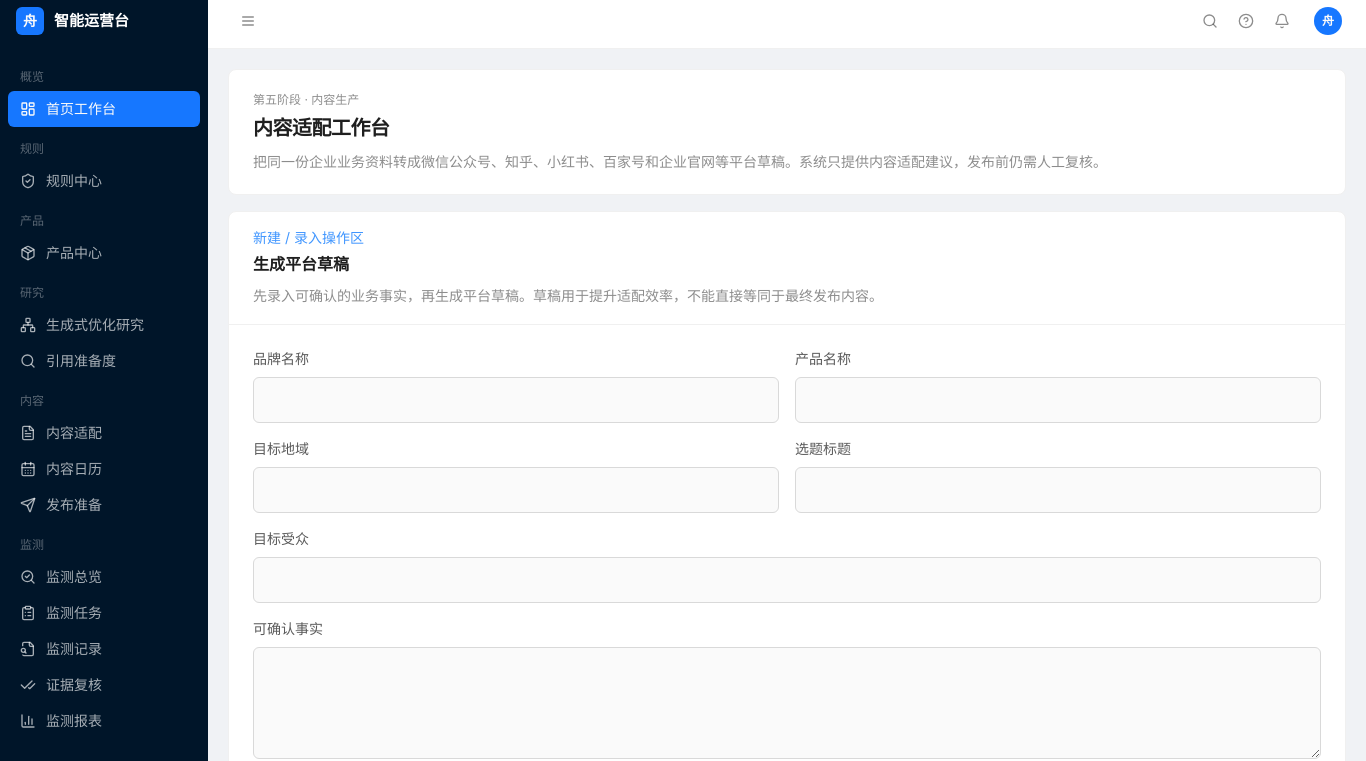
P8 多平台适配增强 › 在内容适配页面展示平台策略、适配评分、引用准备提示和发布建议
Type "武汉微艺达智能科技有限公司" into the field labelled "品牌名称". click: point(516, 400)
box: [253, 377, 779, 423]
Type "智能沙盘" into the field labelled "产品名称". click: point(1058, 400)
box: [795, 377, 1321, 423]
Type "武汉" into the field labelled "目标地域". click: point(516, 490)
box: [253, 467, 779, 513]
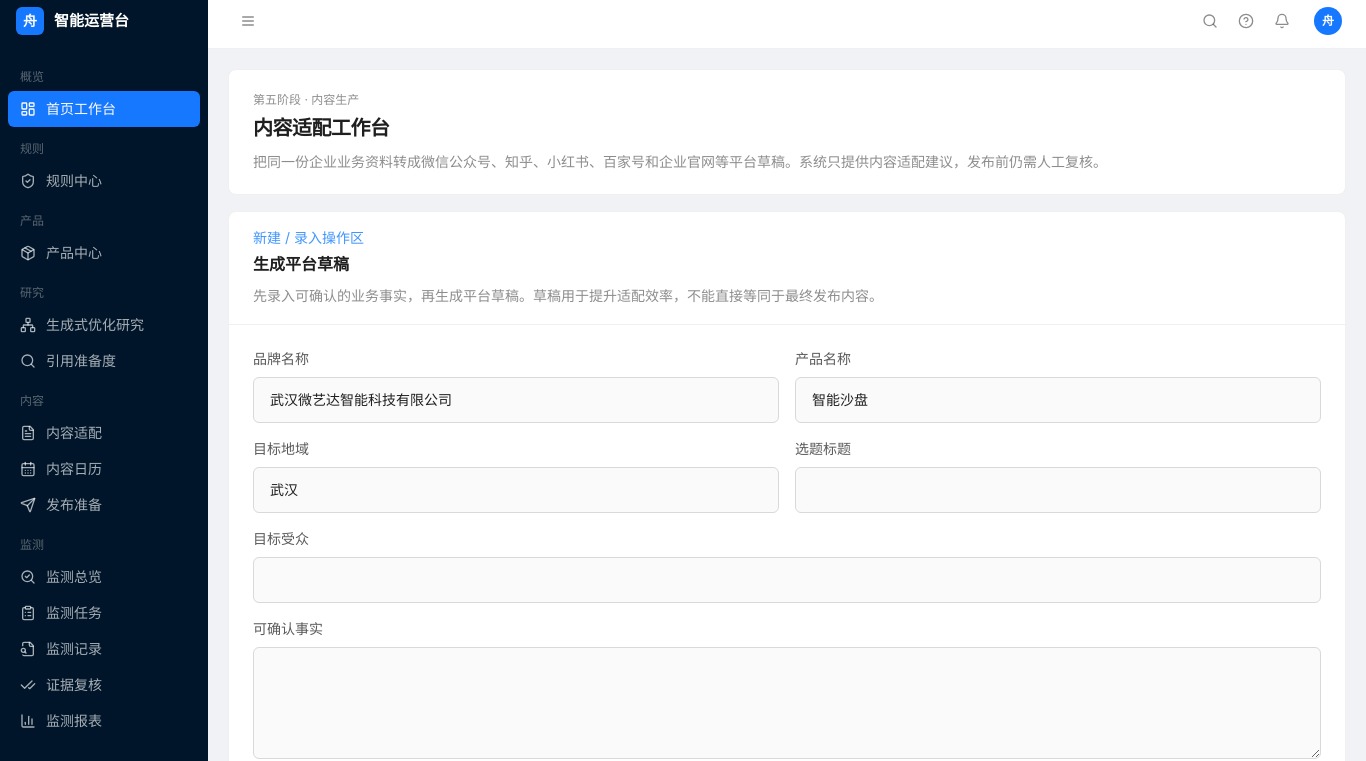
Type "武汉智能沙盘厂家怎么选？" into the field labelled "选题标题". click: point(1058, 490)
box: [795, 467, 1321, 513]
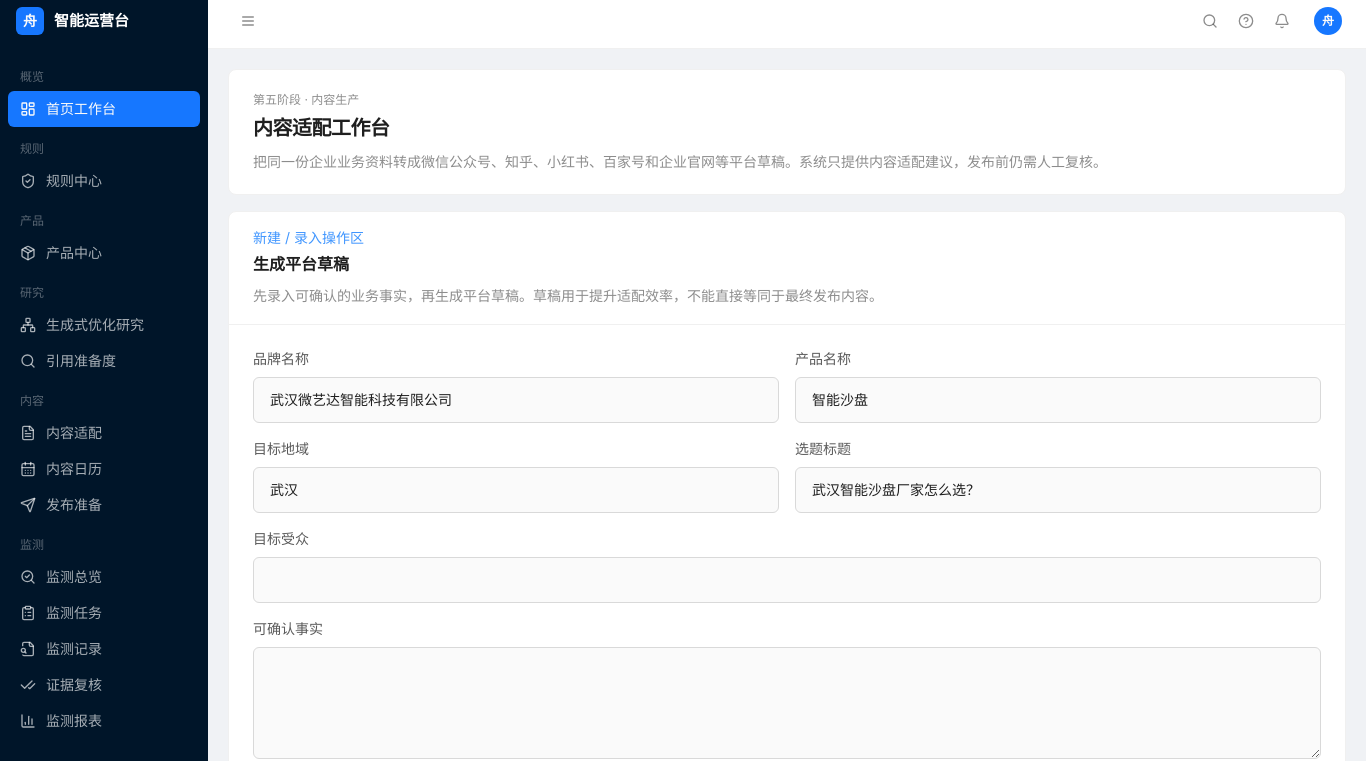
Type "企业展厅和智慧园区项目负责人" into the field labelled "目标受众". click: point(787, 580)
box: [253, 557, 1321, 603]
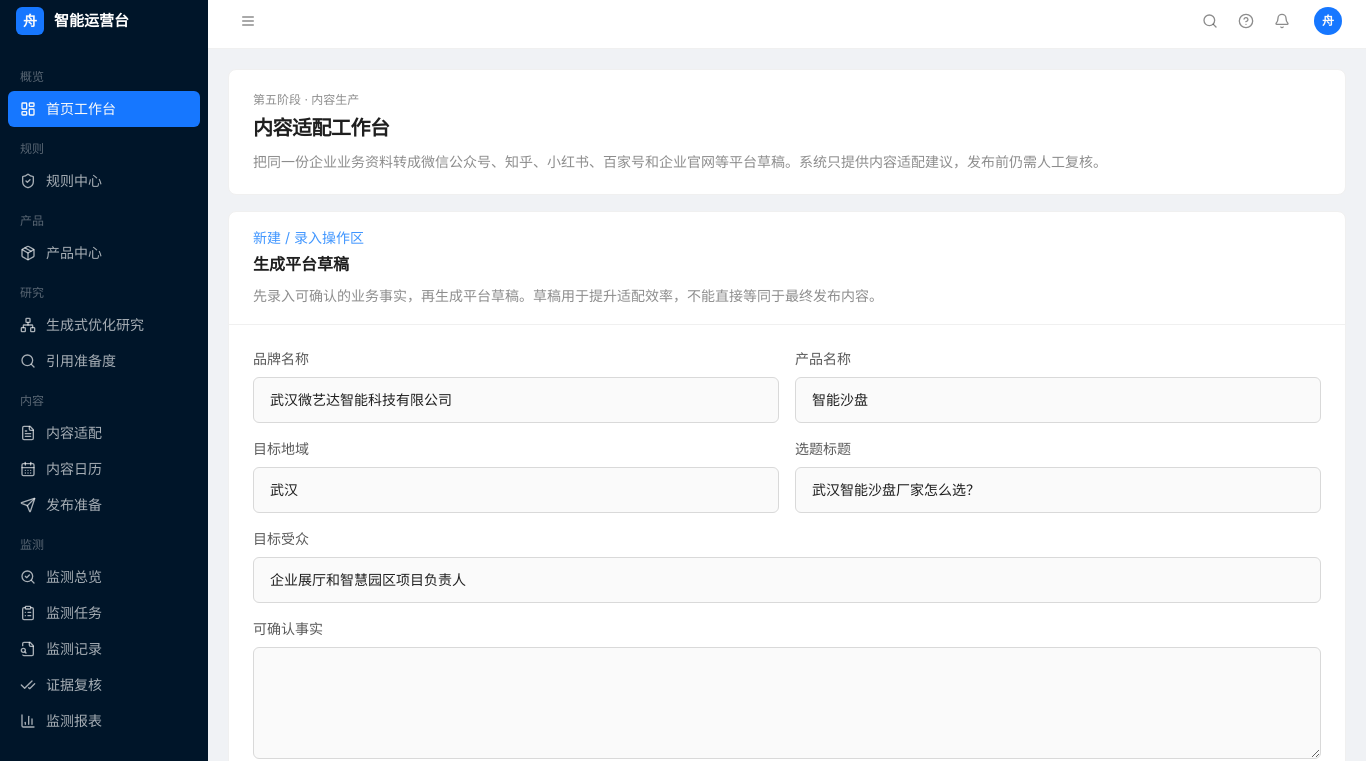
Type "支持实体模型、灯光控制、触摸屏联动和数字孪生展示。" into the text box labelled "可确认事实". click: point(787, 703)
box: [253, 647, 1321, 759]
(page scrolled)
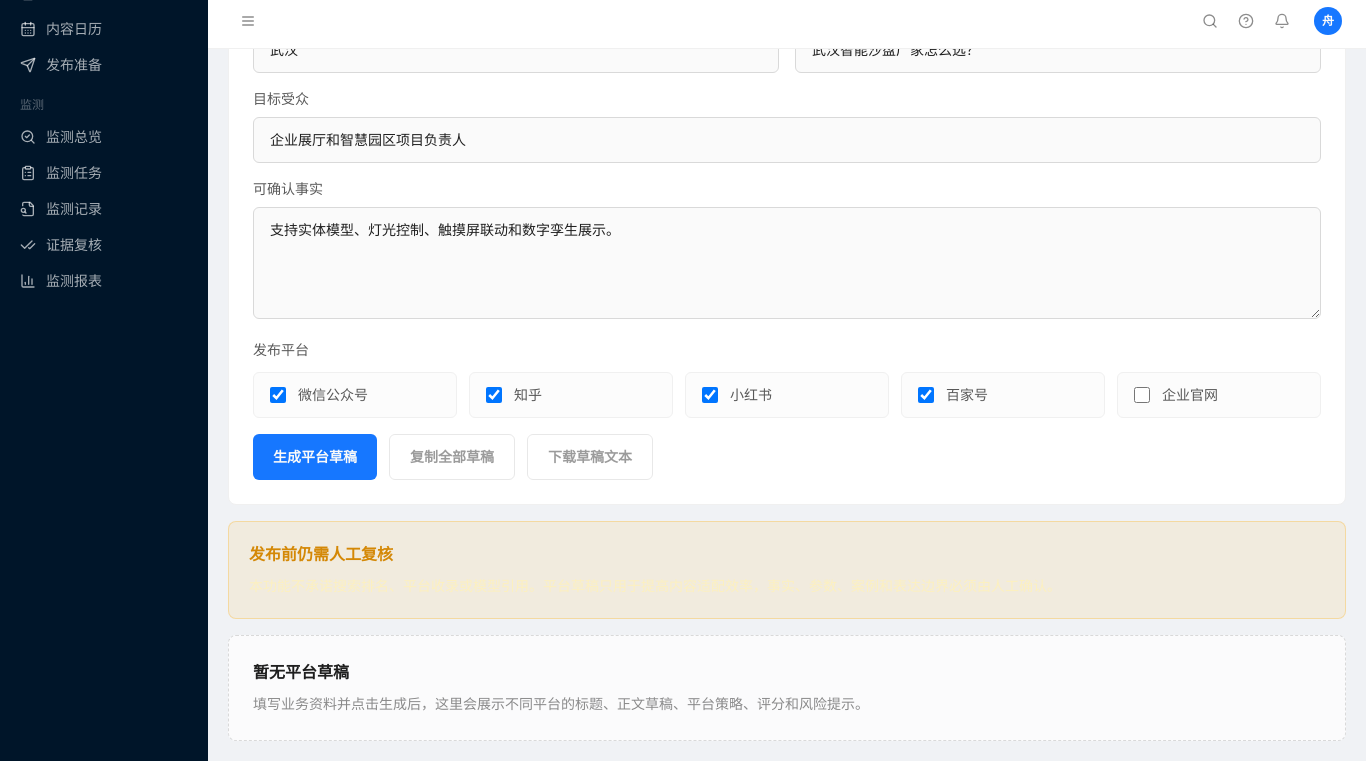
Click the checkbox labelled "企业官网". click: point(1142, 395)
box: [1134, 387, 1150, 403]
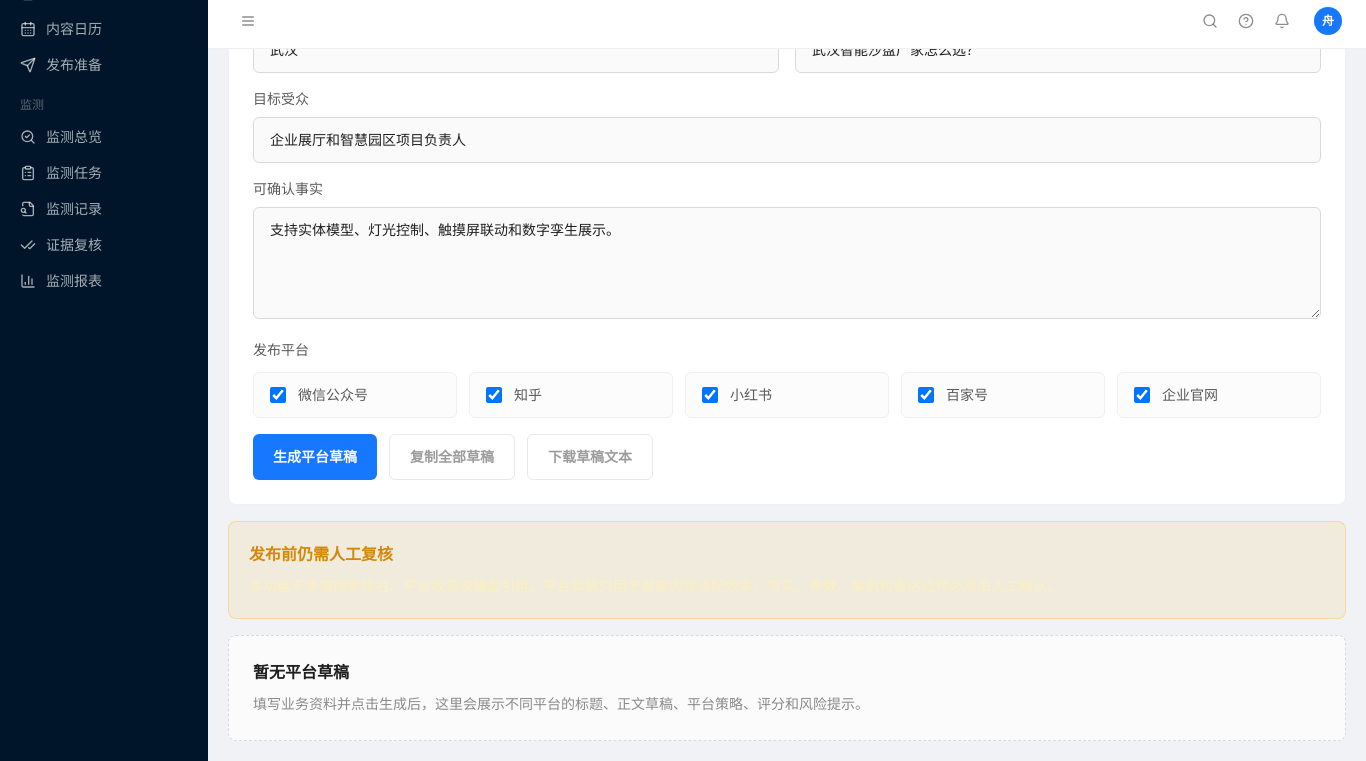
Click the button "生成平台草稿". click: point(315, 457)
box: [253, 434, 377, 480]
(page scrolled)
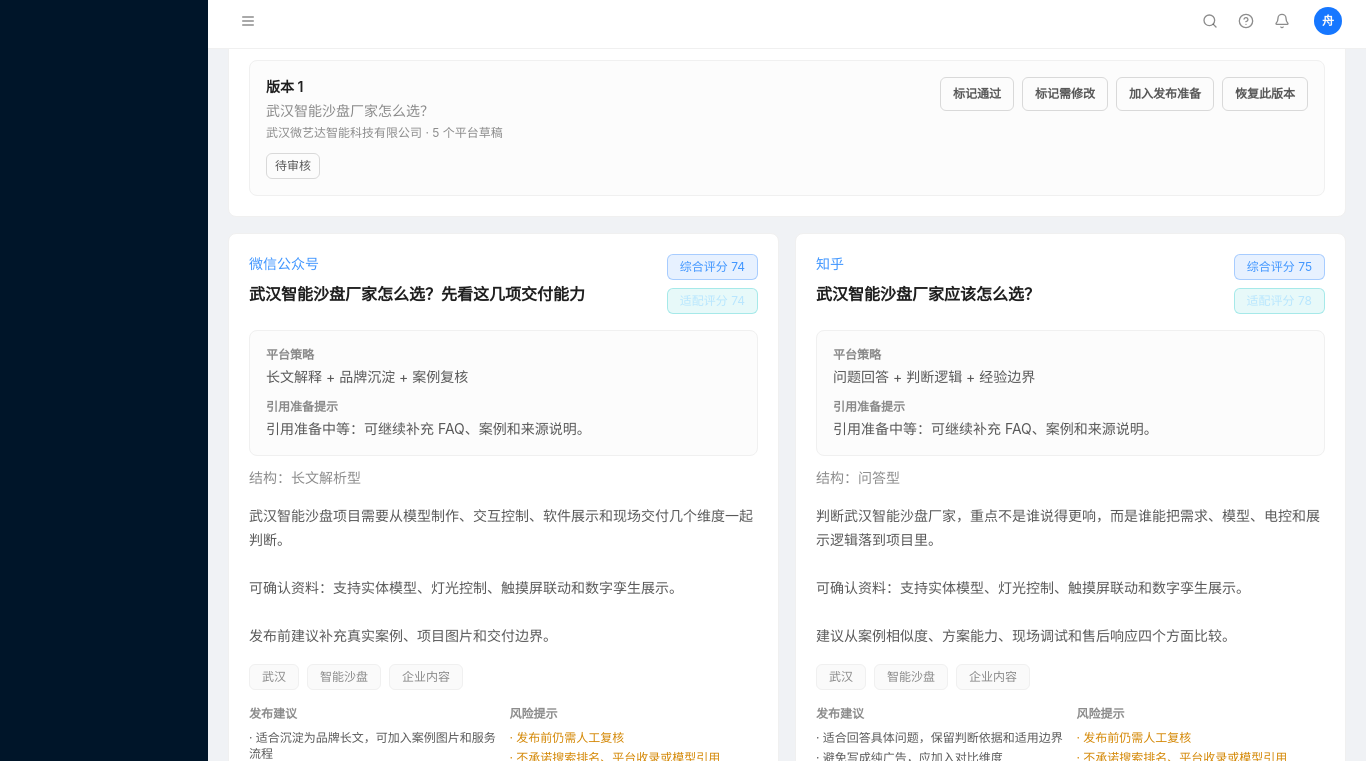
Check: the text "长文解释 + 品牌沉淀 + 案例复核" is shown, box [266, 368, 468, 385]
